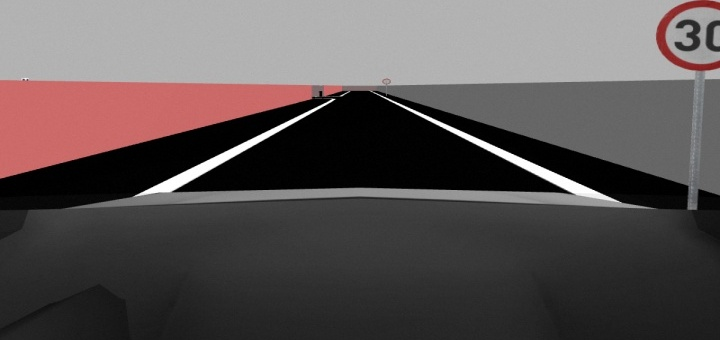hiz_30: (653, 1, 720, 72)
